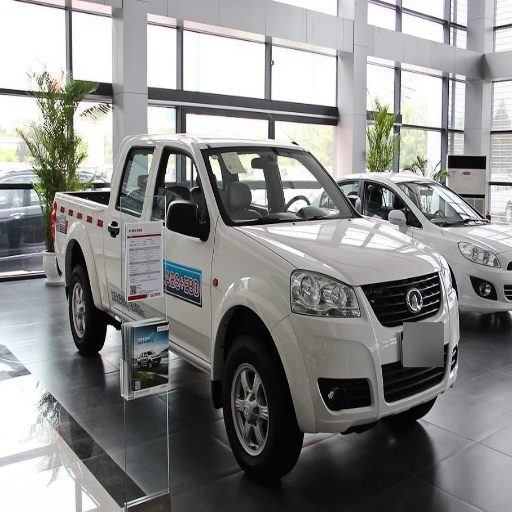back_right_door: (103, 144, 162, 257)
front_bumper: (273, 275, 457, 431)
front_right_door: (144, 143, 212, 356)
front_right_light: (290, 270, 362, 317)
trunk: (49, 197, 105, 277)
